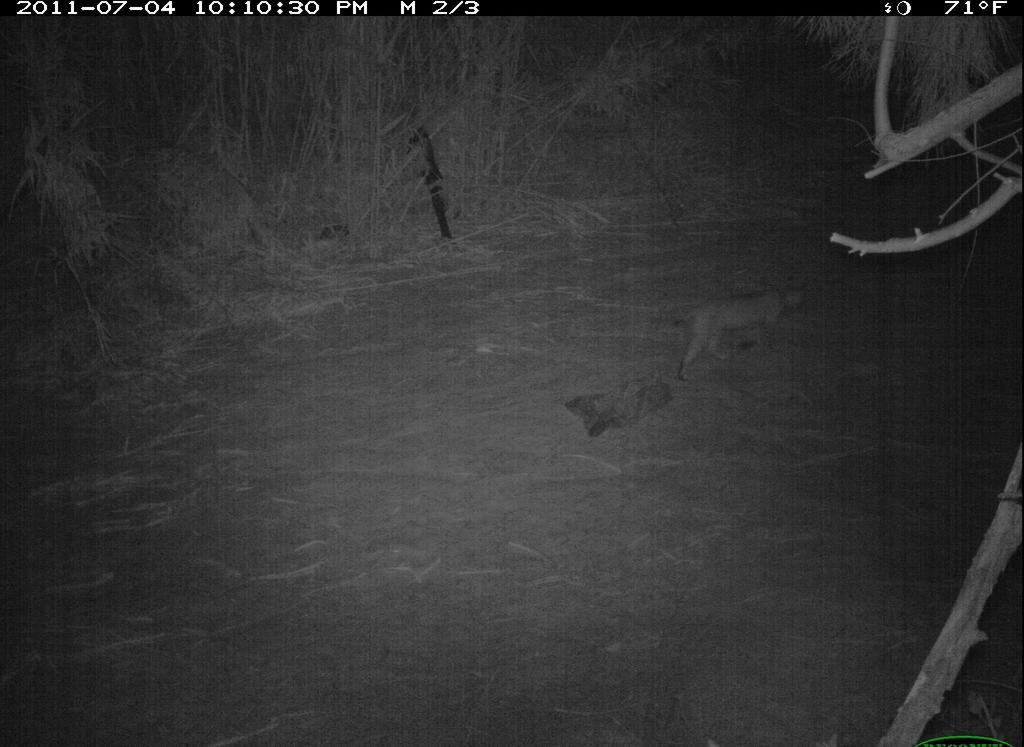bobcat: (658, 273, 818, 388)
